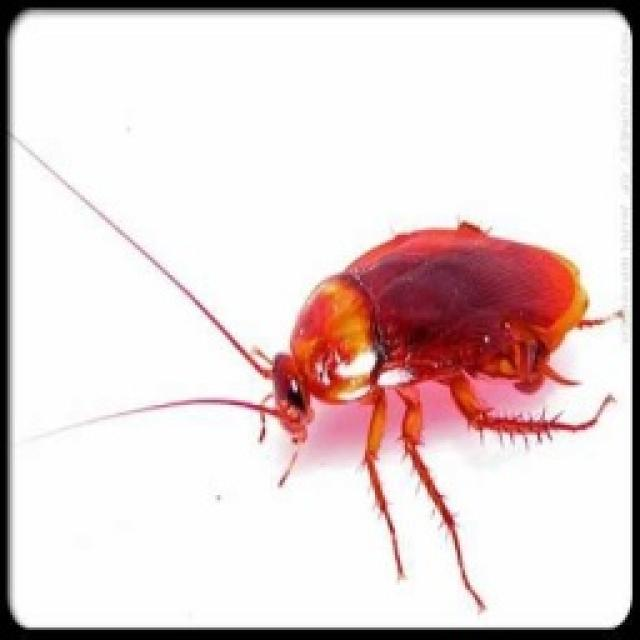cockroach: (198, 200, 636, 499)
